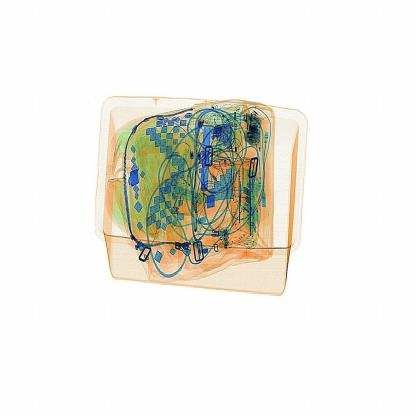pliers: (198, 123, 221, 191)
